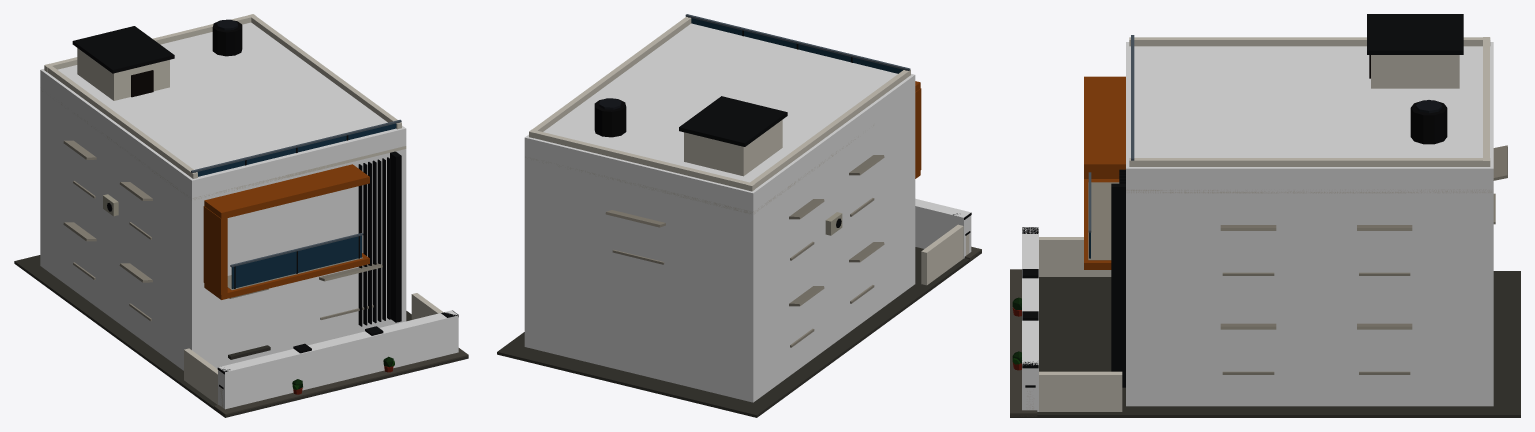
File: B03_modern_indep.glb
The picture shows the model from 3 angles, left to right: view 1: azimuth 30°, elevation 25°; view 2: azimuth 150°, elevation 25°; view 3: azimuth 270°, elevation 25°; orthographic projection. The views are drawn at different scales.
Parts seen in each view (by area): view 1: COL_Main, LOD0, COL_Compound; view 2: COL_Main, LOD0, COL_Compound; view 3: COL_Main, LOD0, COL_Compound.
Boxes of the visible parts, x1,y1,x2,y2 form: COL_Main: (40,22,406,370); LOD0: (14,14,468,417); COL_Compound: (218,310,458,409); COL_Main: (524,23,915,402); LOD0: (497,14,981,417); COL_Compound: (915,198,971,258); COL_Main: (1126,42,1493,406); LOD0: (1010,14,1520,417); COL_Compound: (1022,227,1038,411).
Size of what is drawn, in the model's own units: 10 by 9.09 by 15.
